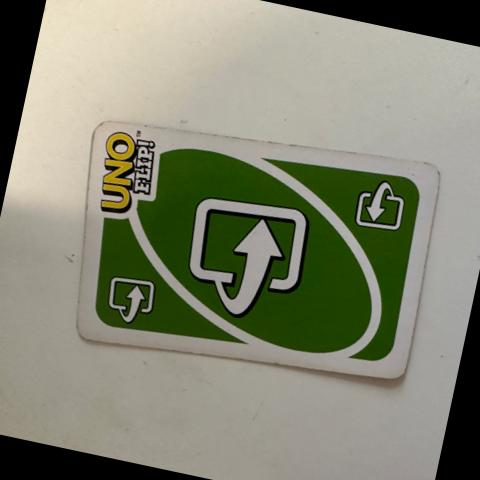lgreenflip-20: (84, 246, 177, 346)
